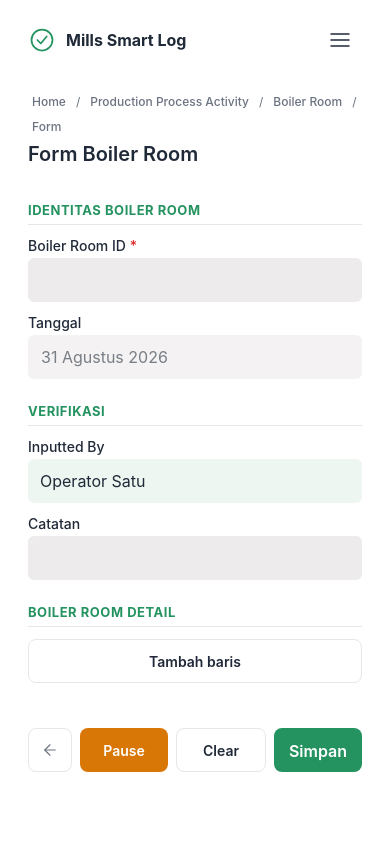
Scenario: FormBoilerRoomView › shows inline error and does not save when Boiler Room ID is empty on Simpan
The image size is (390, 844).
Click the button with test id "save-button" at [318, 750], box [274,728,362,772]
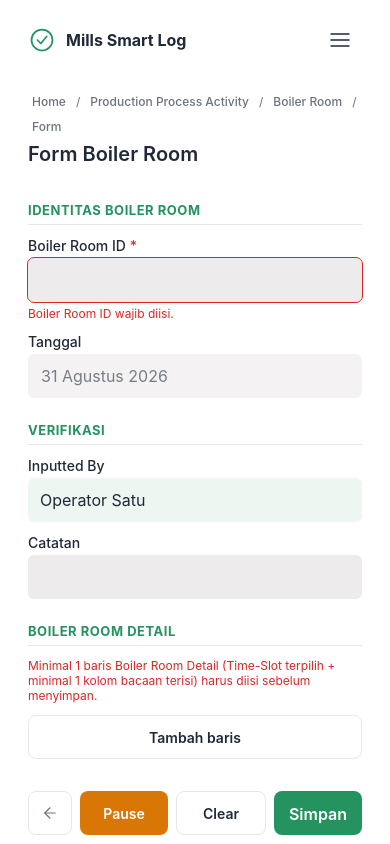
expect the text "Boiler Room ID wajib diisi" is shown: met, box [28,306,174,321]
